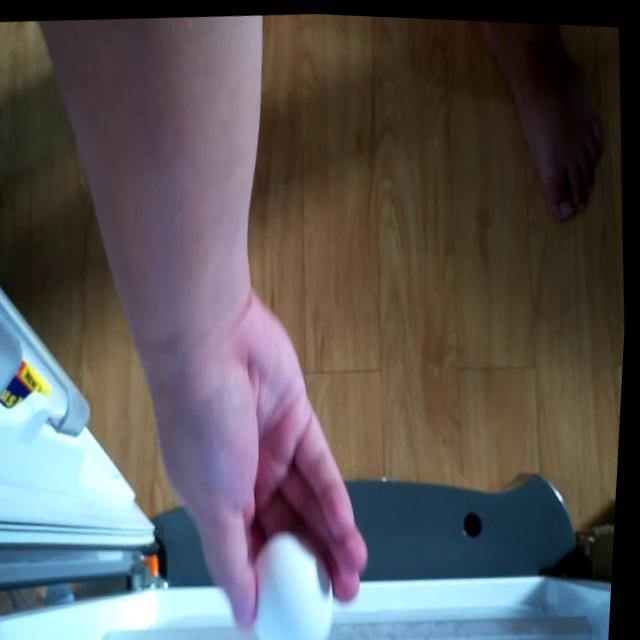egg: (251, 525, 344, 640)
